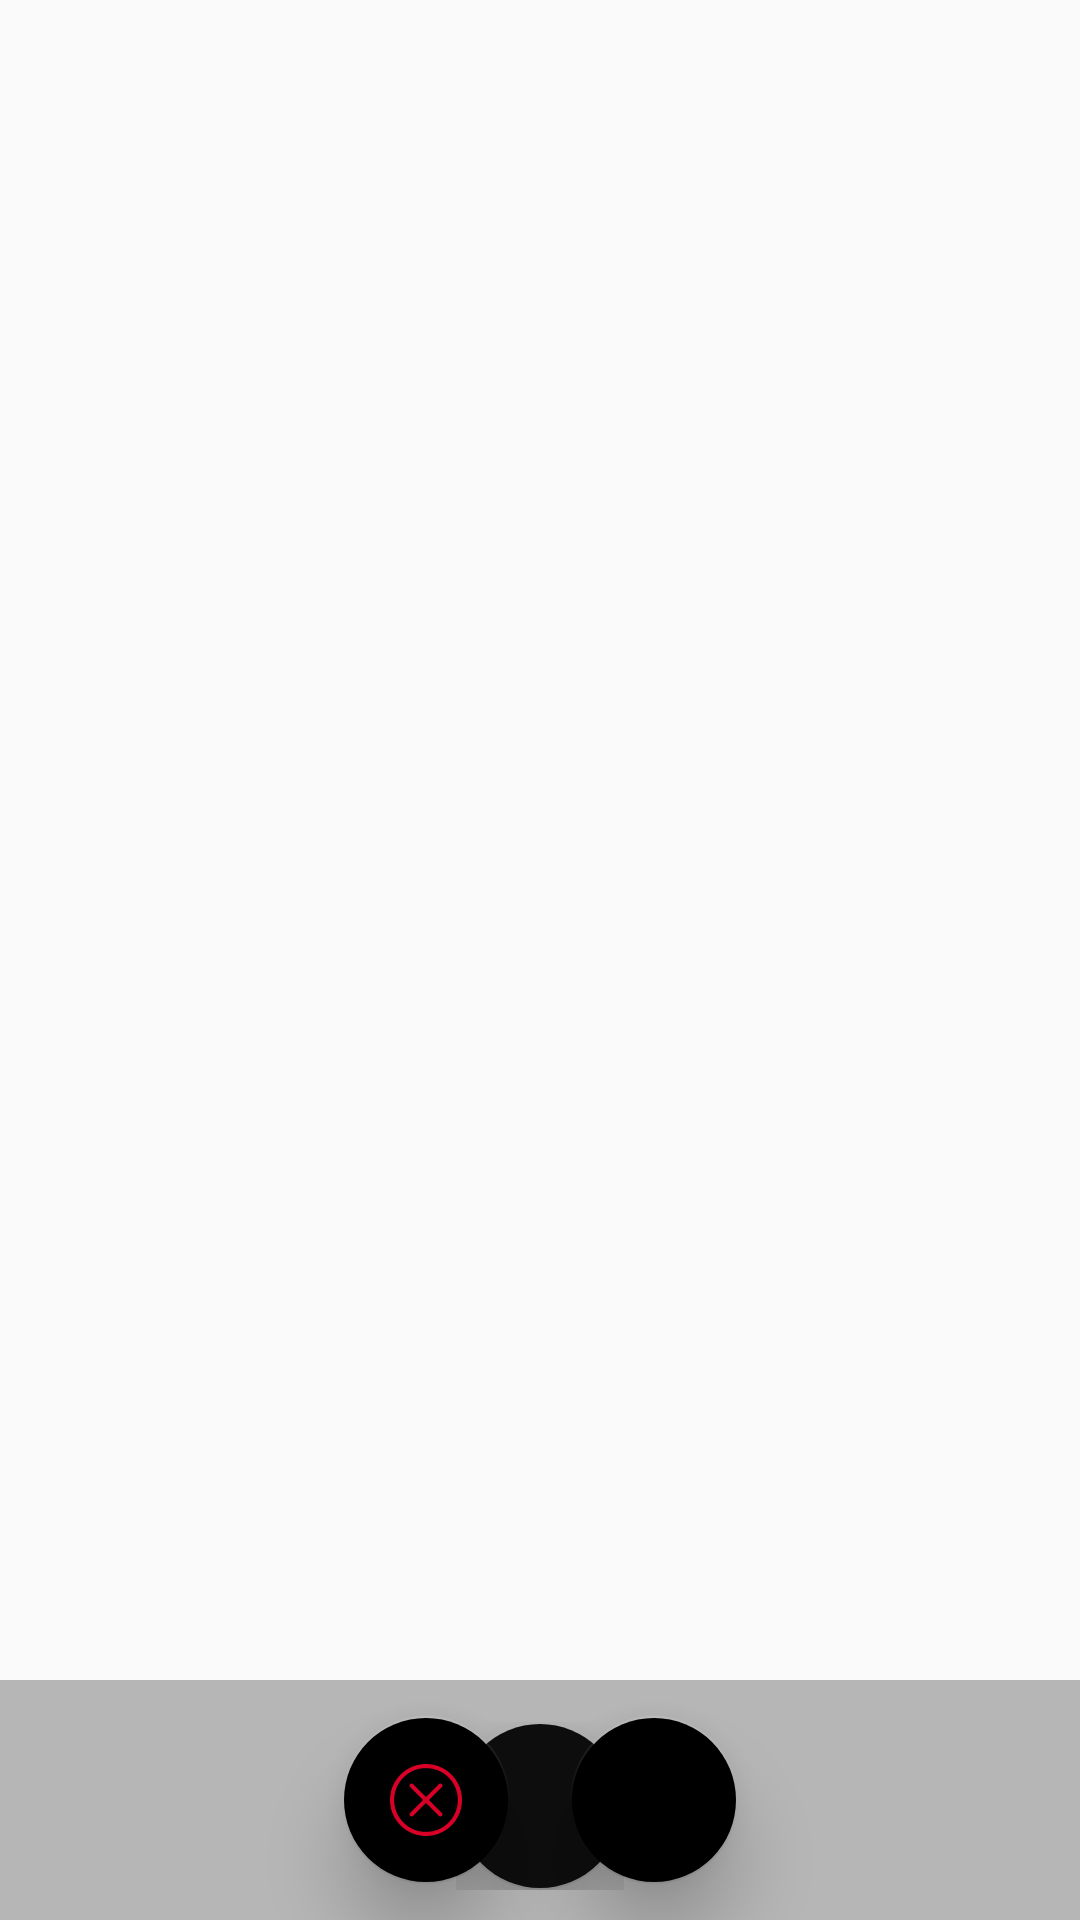

Icon click points for this 1080px x 1920px phone screenshot, format [x,y]:
cancel: [426,1800]
